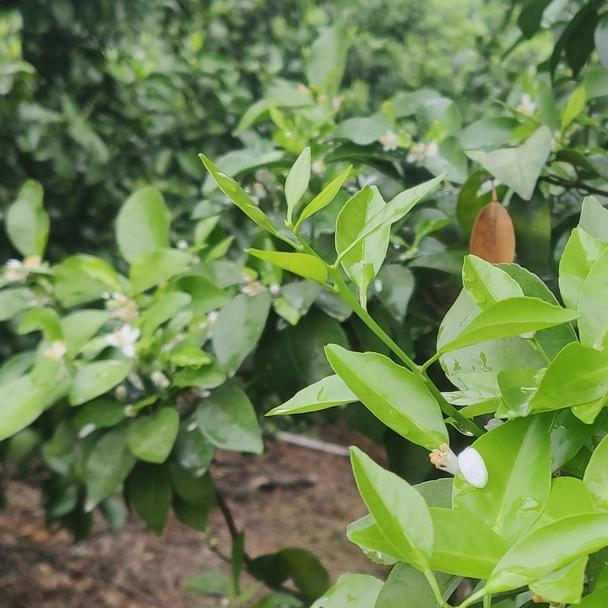shoot: (203, 153, 452, 379)
